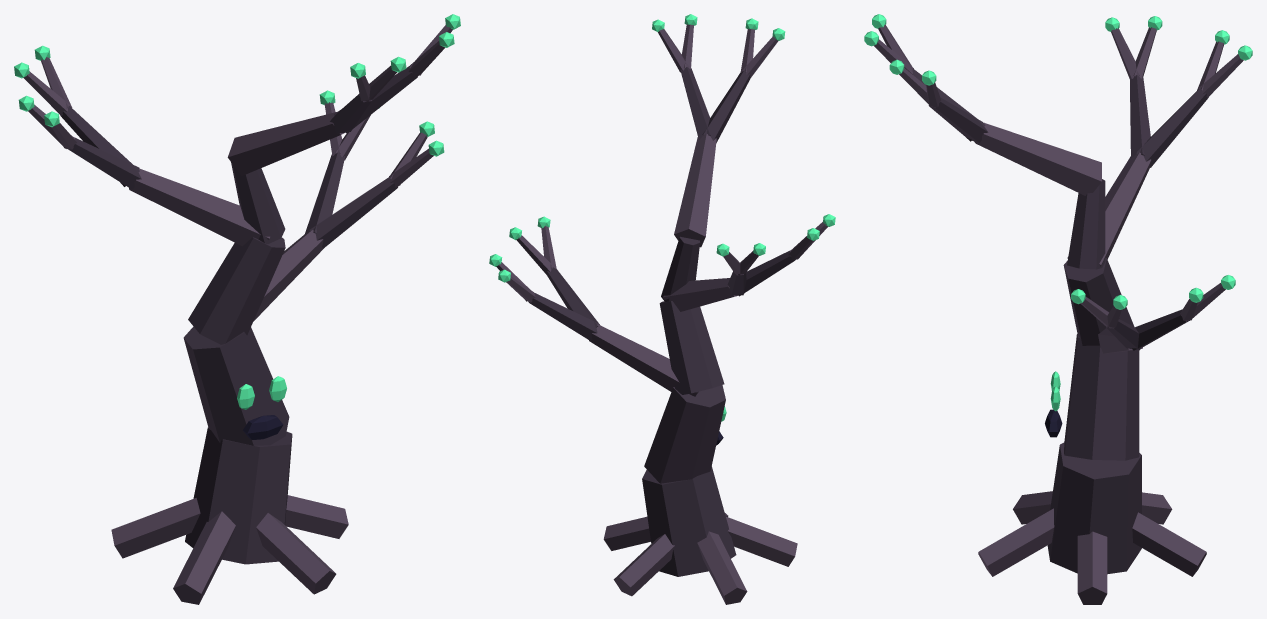
Rendered from HauntedTree.fbx.
3 views of the same model, side by side, from view 1: azimuth 30°, elevation 25°; view 2: azimuth 150°, elevation 25°; view 3: azimuth 270°, elevation 25° (orthographic). The views are drawn at different scales.
Visible parts, largest first — view 1: HauntedTree, HauntedTree_Glow; view 2: HauntedTree, HauntedTree_Glow; view 3: HauntedTree, HauntedTree_Glow.
Boxes of the visible parts, x1,y1,x2,y2 form: HauntedTree: (23,25,452,604); HauntedTree_Glow: (14,14,460,409); HauntedTree: (496,24,828,604); HauntedTree_Glow: (489,14,835,421); HauntedTree: (874,24,1243,604); HauntedTree_Glow: (864,14,1252,411).
Size of the model in its own units: 616 by 856 by 548.
1 material, 1 textured.
